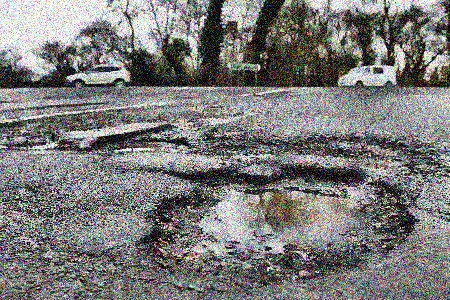pothole: (145, 163, 419, 282), (92, 122, 194, 156)
